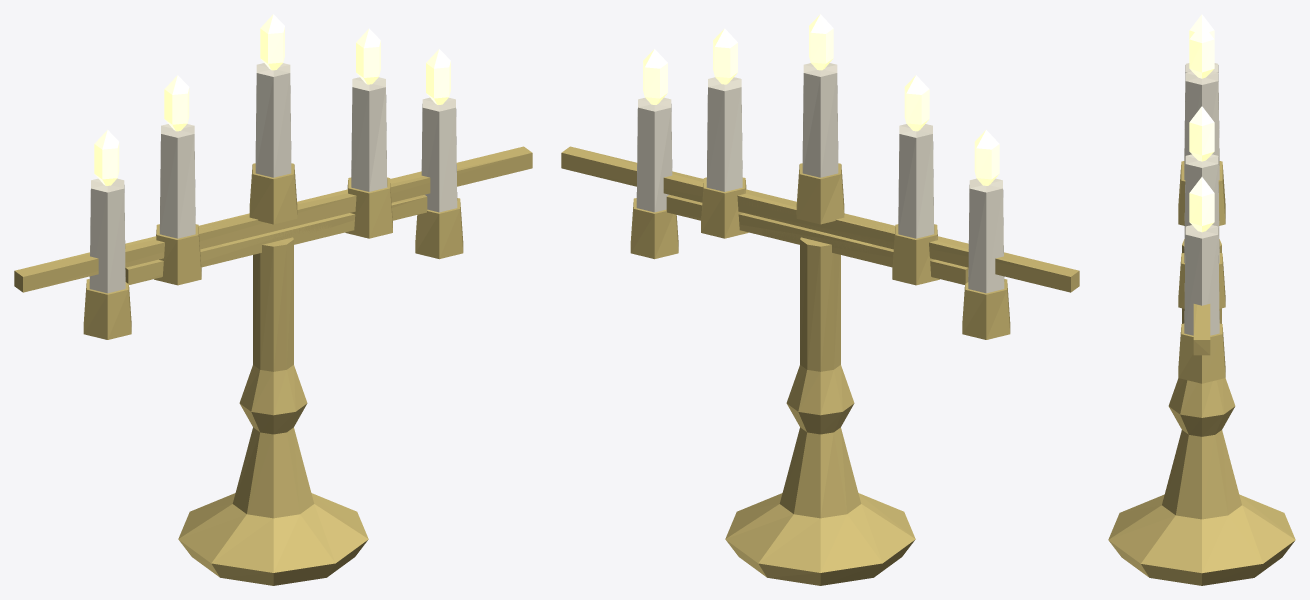
The model's file is candelabra.glb.
3 views of the same model, side by side, from view 1: azimuth 30°, elevation 25°; view 2: azimuth 150°, elevation 25°; view 3: azimuth 270°, elevation 25° (orthographic).
Parts seen in each view (by area): view 1: candelabra; view 2: candelabra; view 3: candelabra.
Part boxes in pixels (<box>): candelabra: <box>14,14,532,585</box>; candelabra: <box>561,14,1079,585</box>; candelabra: <box>1108,14,1295,585</box>.
Bounding box in the file's own units: 0.8514 × 0.8576 × 0.2757.
